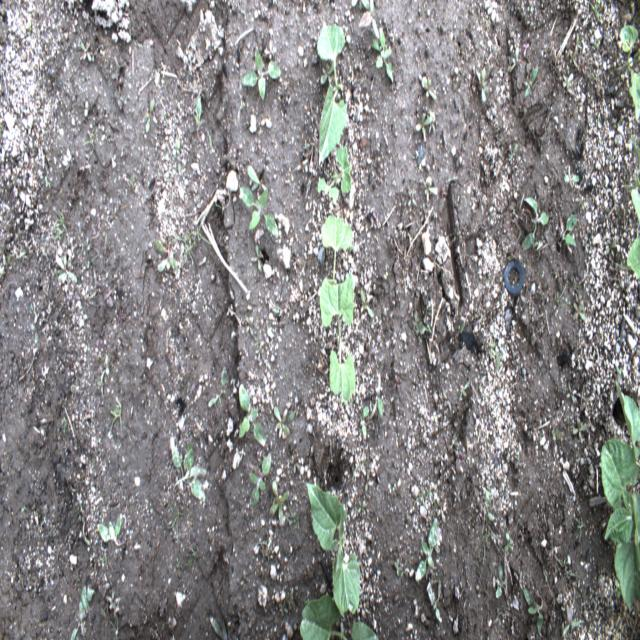crop: (600, 377, 640, 613), (306, 483, 360, 616), (319, 271, 356, 403), (317, 23, 347, 167), (300, 594, 378, 639), (320, 213, 352, 295), (317, 145, 351, 202), (620, 23, 639, 124), (628, 187, 640, 277)
weed: (171, 433, 207, 501), (242, 47, 282, 101), (238, 185, 280, 236), (238, 386, 266, 445), (520, 195, 550, 250), (175, 220, 212, 264), (415, 518, 438, 582), (248, 450, 272, 508), (71, 584, 95, 638), (372, 26, 393, 84), (522, 586, 544, 634), (154, 234, 179, 271), (270, 478, 290, 521), (358, 0, 379, 40), (208, 365, 227, 409), (96, 516, 124, 544), (54, 252, 78, 284), (247, 162, 270, 194), (561, 600, 582, 635), (428, 578, 442, 624), (558, 217, 577, 247), (274, 405, 290, 438), (193, 84, 204, 128), (414, 312, 428, 346), (320, 60, 338, 86), (415, 115, 433, 140), (522, 67, 538, 95), (284, 497, 298, 527), (104, 589, 122, 611), (563, 163, 580, 186), (361, 288, 374, 318), (424, 175, 438, 202), (571, 419, 588, 441), (477, 68, 488, 102), (484, 490, 495, 523), (170, 497, 181, 529), (507, 47, 521, 72), (112, 63, 124, 92), (497, 558, 505, 600), (56, 209, 66, 242), (422, 78, 437, 100), (250, 247, 264, 270), (288, 452, 302, 475), (146, 100, 156, 132), (556, 281, 567, 310), (561, 64, 573, 90), (435, 497, 446, 525), (572, 302, 587, 322), (632, 134, 640, 168), (361, 404, 368, 442), (459, 379, 471, 401), (395, 558, 408, 578), (565, 381, 576, 404), (503, 531, 514, 553), (84, 128, 97, 146), (80, 42, 92, 61), (111, 402, 122, 422), (276, 598, 287, 618), (460, 311, 469, 335), (589, 0, 600, 19), (58, 416, 69, 434), (240, 570, 248, 593), (388, 27, 398, 45), (87, 46, 98, 62), (112, 615, 119, 640), (509, 143, 518, 162), (351, 0, 370, 9), (426, 572, 434, 593), (577, 518, 585, 538), (43, 170, 51, 190), (488, 341, 496, 361), (605, 239, 617, 252), (364, 467, 370, 493), (376, 395, 383, 417), (246, 314, 253, 334), (289, 404, 297, 421), (574, 31, 580, 53), (172, 140, 180, 156), (358, 500, 367, 512), (454, 488, 461, 502), (21, 504, 27, 513), (594, 118, 600, 126)
